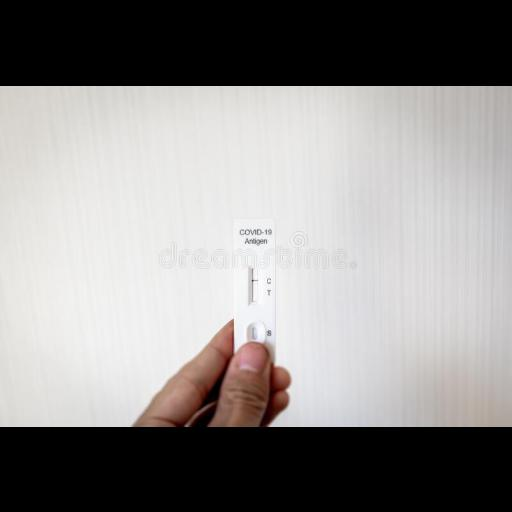Neg: (236, 216, 274, 362)
